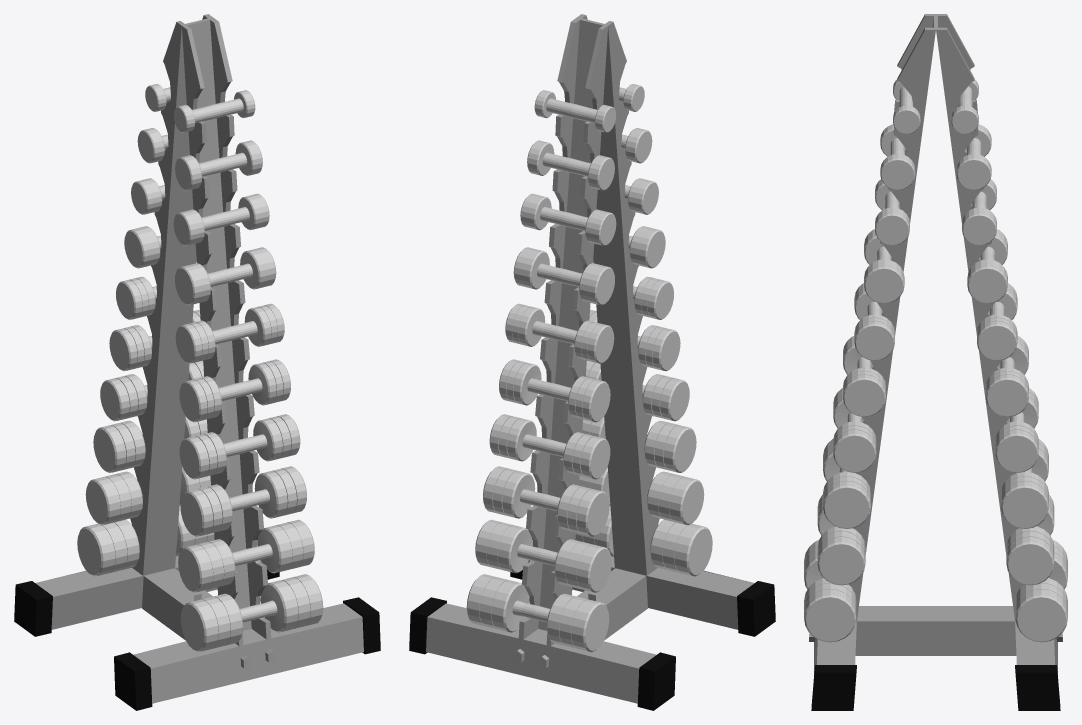
The model's file is ChromeDumbbellsRack2.fbx.
The picture shows the model from 3 angles, left to right: view 1: azimuth 30°, elevation 25°; view 2: azimuth 150°, elevation 25°; view 3: azimuth 270°, elevation 25°; orthographic projection. The views are drawn at different scales.
Parts seen in each view (by area): view 1: ChromeDumbbells2; view 2: ChromeDumbbells2; view 3: ChromeDumbbells2.
Boxes of the visible parts, <box> form: ChromeDumbbells2: <box>14,14,380,710</box>; ChromeDumbbells2: <box>409,14,775,710</box>; ChromeDumbbells2: <box>804,14,1067,710</box>.
Size of the model in its own units: 51.94 by 125 by 47.43.
